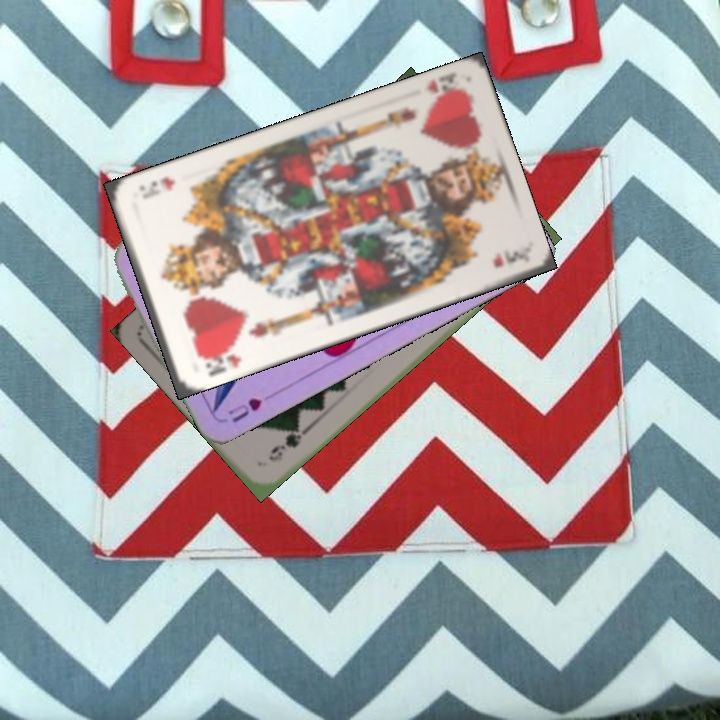G9: (264, 421, 305, 464)
HK: (193, 341, 244, 379), (422, 68, 461, 106)
HU: (224, 393, 265, 426)
